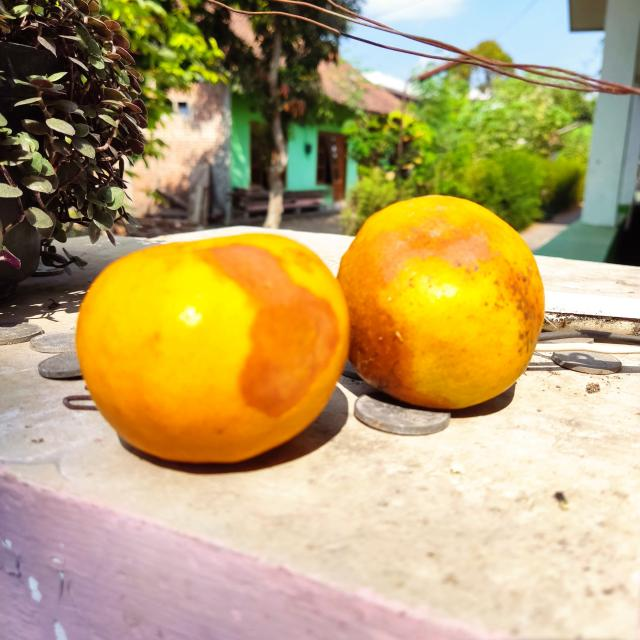orange: (71, 230, 346, 468), (331, 193, 546, 413)
